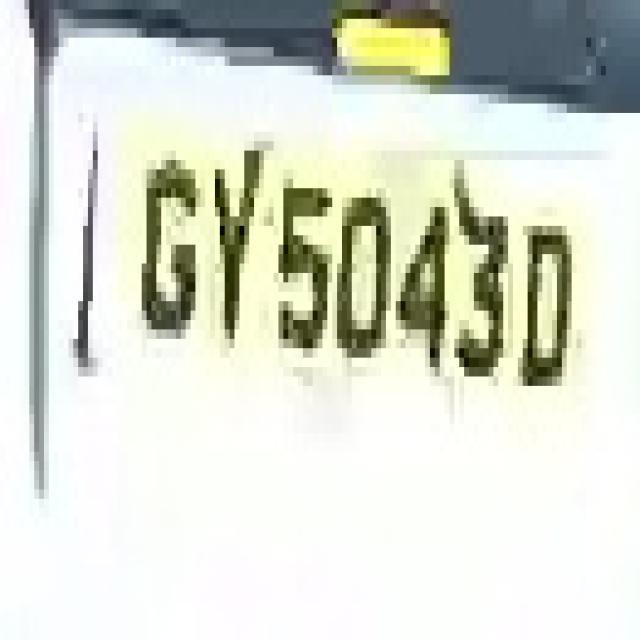0: (332, 150, 391, 377)
3: (445, 179, 508, 395)
4: (386, 188, 459, 405)
5: (269, 160, 337, 367)
D: (508, 207, 581, 395)
G: (122, 122, 205, 358)
Y: (200, 122, 264, 367)
